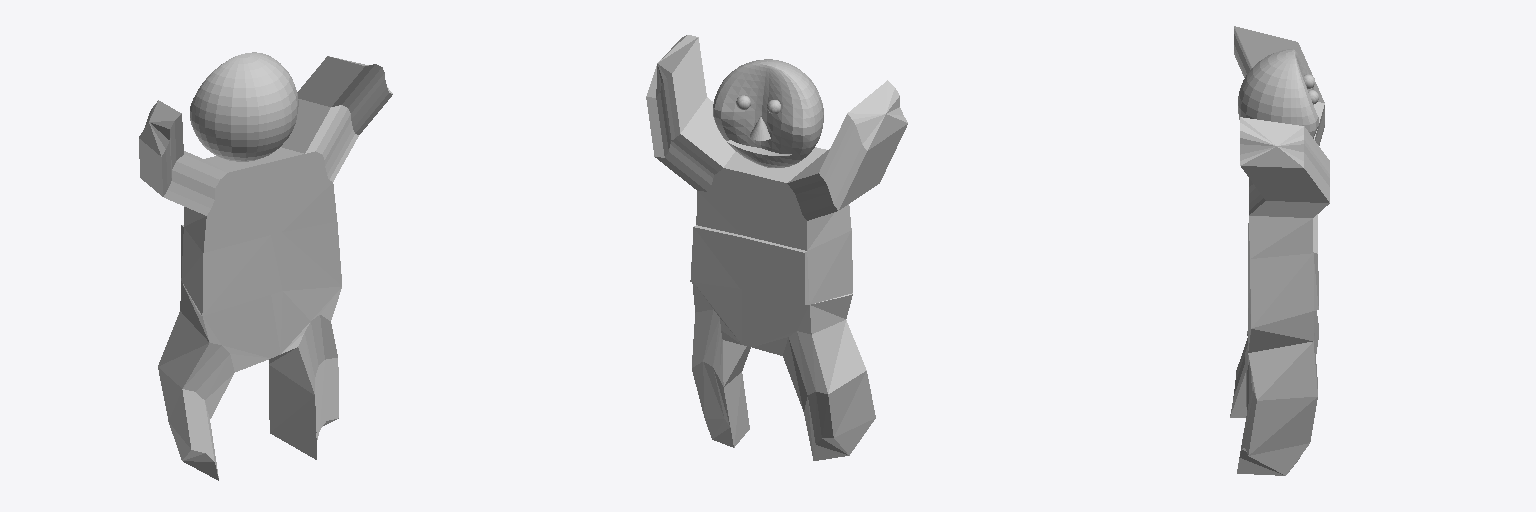
The model's file is man_000002.obj.
The picture shows the model from 3 angles: view 1: azimuth 30°, elevation 25°; view 2: azimuth 150°, elevation 25°; view 3: azimuth 270°, elevation 25°; orthographic projection.
Parts seen in each view (by area): view 1: Cube; view 2: Cube; view 3: Cube.
Boxes of the visible parts, x1,y1,x2,y2 form: Cube: [139, 52, 392, 480]; Cube: [646, 35, 907, 460]; Cube: [1230, 26, 1329, 475].
Size of the model in its own units: 79.08 by 128 by 29.18.